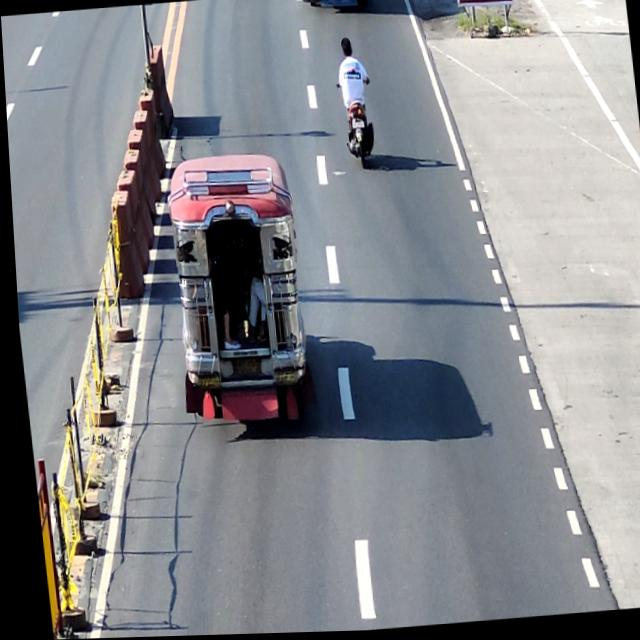Jeep: (156, 151, 312, 440)
License-Plate: (226, 356, 257, 378), (349, 120, 363, 132)
Motorcycle: (336, 67, 376, 171)
